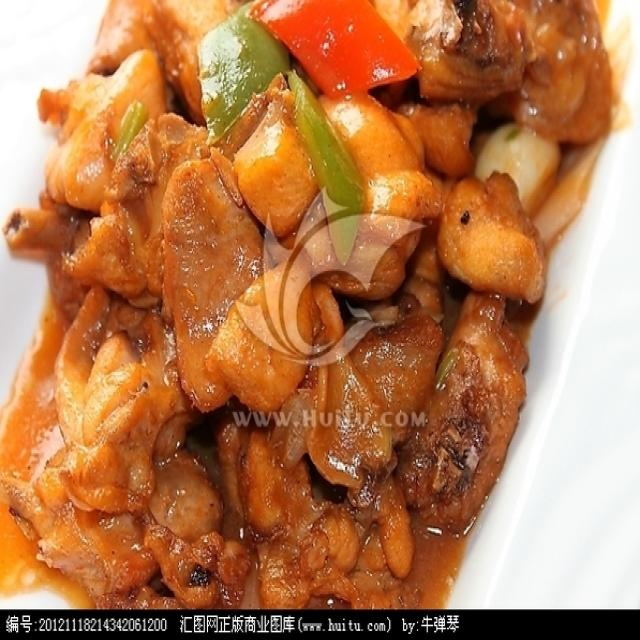鸡肉料理 含炸鸡: (8, 8, 604, 586)
